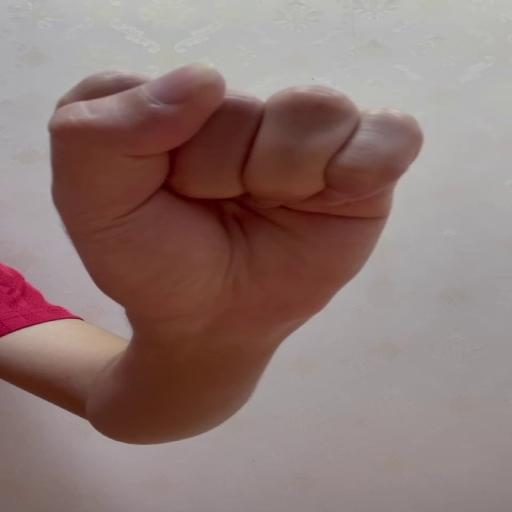fist: (50, 64, 425, 320)
